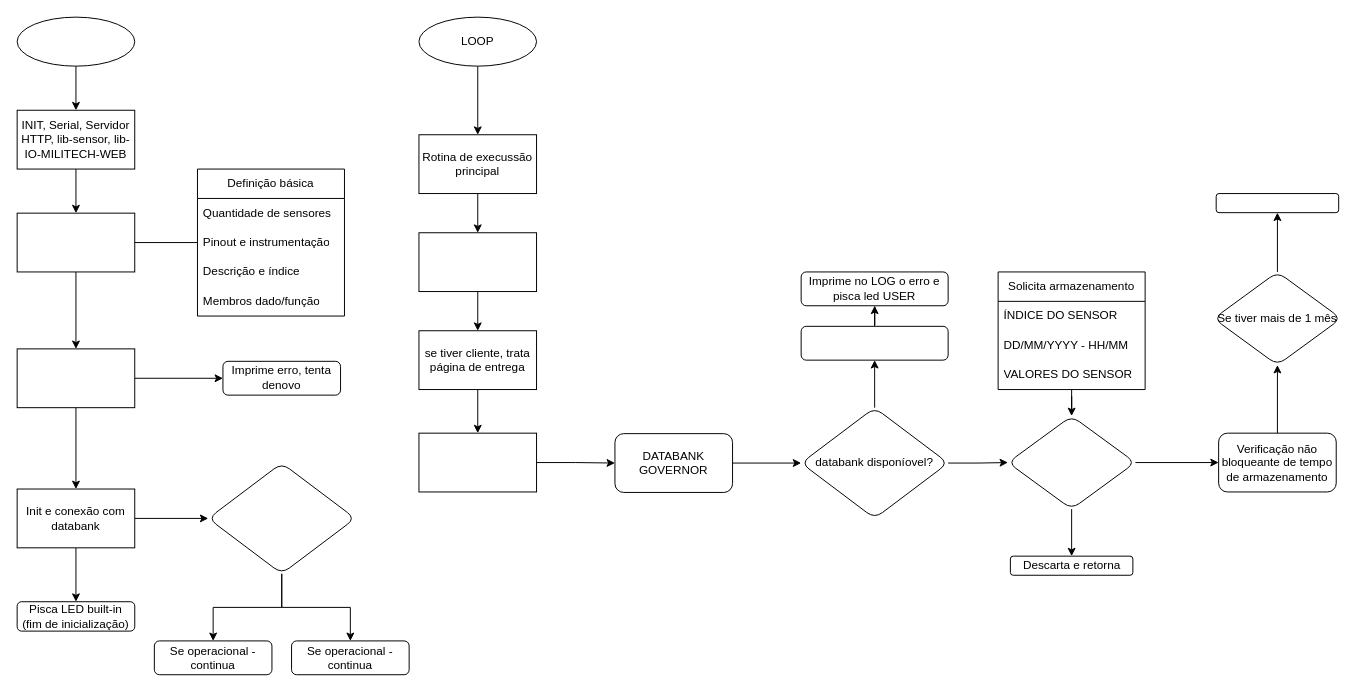
This 1358x692 diagram has some shape labels left out. Each missing label, with the centre of its shape:
"Apaga informação" goes at pixel 1277 203.
"Dados significativos?" goes at pixel 1071 462.
"DATABANK CONNECTION" goes at pixel 281 518.
"Definição de array de sensores ativos com macros" goes at pixel 75 242.
"Lança exceção - tenta reconectar" goes at pixel 874 342.
"Leitura de dados do array de sensores e instrumentação" goes at pixel 477 462.
"SETUP" goes at pixel 75 41.
"Tratamento de comandos emergenciais" goes at pixel 477 262.
"Verificação de comunicação com os sensores" goes at pixel 75 378.
